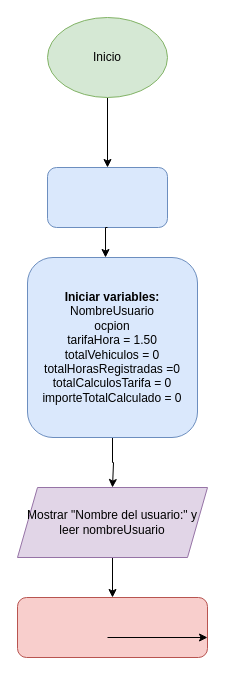
Some shapes in this 233 by 675 pixel diagram are drawn without their labels. Here are the shapes that lost their labels. From the top down, the box of each, then its label:
(46, 166, 168, 228): Crear scanner
(16, 596, 208, 658): Ir a diagrama 2 (menú principal)
